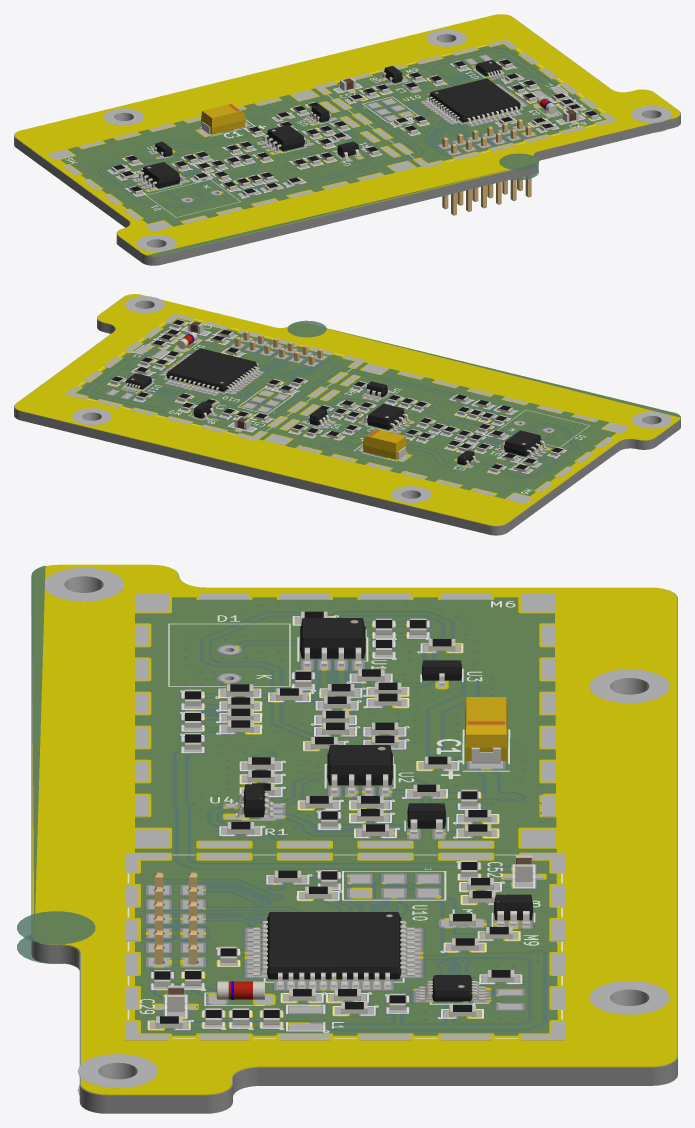
File: SPACEDOS01.glb
3 renders of one model, top to bottom at view 1: azimuth 30°, elevation 25°; view 2: azimuth 150°, elevation 25°; view 3: azimuth 270°, elevation 25°, orthographic. The views are drawn at different scales.
Parts seen in each view (by area): view 1: =>[0:1:1:14], =>[0:1:1:19], =>[0:1:1:21], =>[0:1:1:15], =>[0:1:1:17], U10, C1, U1, U2; view 2: =>[0:1:1:14], =>[0:1:1:19], =>[0:1:1:21], =>[0:1:1:15], =>[0:1:1:17], U10, C1, U2, U1; view 3: =>[0:1:1:14], =>[0:1:1:19], =>[0:1:1:15], =>[0:1:1:21], =>[0:1:1:17], U10, U1, U2, C1, U11, U8, U5 (+3 smaller).
Boxes of the visible parts, bbox=[...] form: =>[0:1:1:14]: bbox=[14, 14, 680, 256]; =>[0:1:1:19]: bbox=[61, 44, 606, 256]; =>[0:1:1:21]: bbox=[14, 16, 680, 265]; =>[0:1:1:15]: bbox=[47, 29, 671, 252]; =>[0:1:1:17]: bbox=[65, 45, 604, 217]; U10: bbox=[426, 78, 524, 124]; C1: bbox=[201, 103, 245, 134]; U1: bbox=[136, 162, 185, 190]; U2: bbox=[261, 125, 310, 152]; =>[0:1:1:14]: bbox=[14, 294, 680, 525]; =>[0:1:1:19]: bbox=[76, 318, 680, 498]; =>[0:1:1:21]: bbox=[14, 294, 680, 535]; =>[0:1:1:15]: bbox=[65, 296, 671, 503]; =>[0:1:1:17]: bbox=[78, 319, 589, 494]; U10: bbox=[163, 348, 260, 393]; C1: bbox=[362, 429, 406, 459]; U2: bbox=[361, 403, 410, 431]; U1: bbox=[498, 430, 547, 458]; =>[0:1:1:14]: bbox=[32, 564, 676, 1094]; =>[0:1:1:19]: bbox=[17, 565, 557, 1035]; =>[0:1:1:15]: bbox=[44, 567, 669, 1094]; =>[0:1:1:21]: bbox=[31, 569, 677, 1113]; =>[0:1:1:17]: bbox=[127, 601, 562, 1038]; U10: bbox=[253, 912, 414, 986]; U1: bbox=[300, 618, 365, 666]; U2: bbox=[327, 745, 392, 793]; C1: bbox=[465, 697, 507, 763]; U11: bbox=[419, 975, 485, 1001]; U8: bbox=[494, 894, 532, 925]; U5: bbox=[407, 803, 445, 833].
Size of the model in its own units: 0.0935 by 0.013 by 0.0493.
